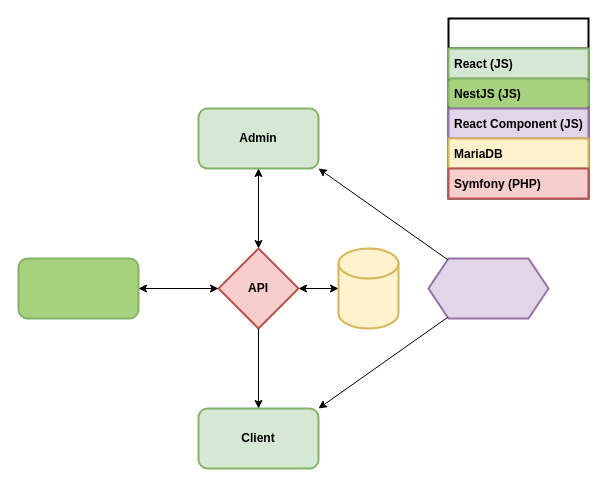
Image size: 606x486. Some labels were removed from this diagram. Each missing label, with the box of its shape:
DB: (337, 247, 399, 329)
KK Integration: (17, 257, 139, 319)
Remote Components: (427, 257, 549, 319)
Stack: (447, 17, 589, 199)
